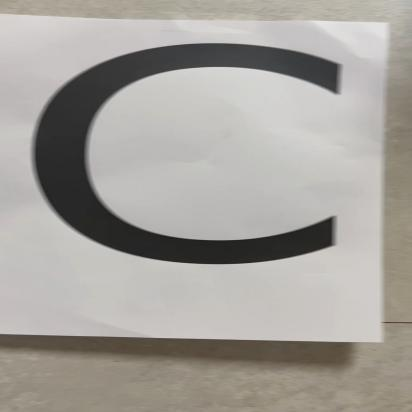seat: (8, 16, 392, 354)
